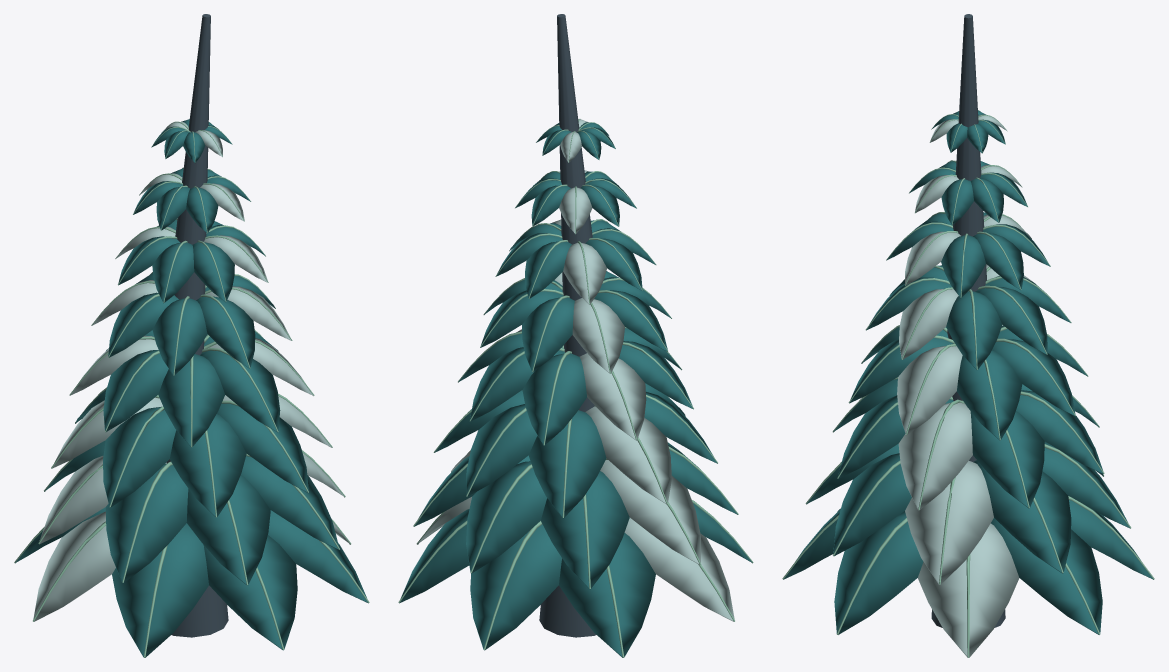
File: cryo_rime_spruce.glb
The picture shows the model from 3 angles, left to right: view 1: azimuth 30°, elevation 25°; view 2: azimuth 150°, elevation 25°; view 3: azimuth 270°, elevation 25°; orthographic projection.
Visible parts, largest first — view 1: cryo_rime_spruce; view 2: cryo_rime_spruce; view 3: cryo_rime_spruce.
Part boxes in pixels (x1,y1,x2,y2): cryo_rime_spruce: [14, 14, 369, 657]; cryo_rime_spruce: [398, 14, 753, 657]; cryo_rime_spruce: [782, 14, 1154, 657].
Size of the model in its own units: 8.64 by 15.64 by 8.63.
